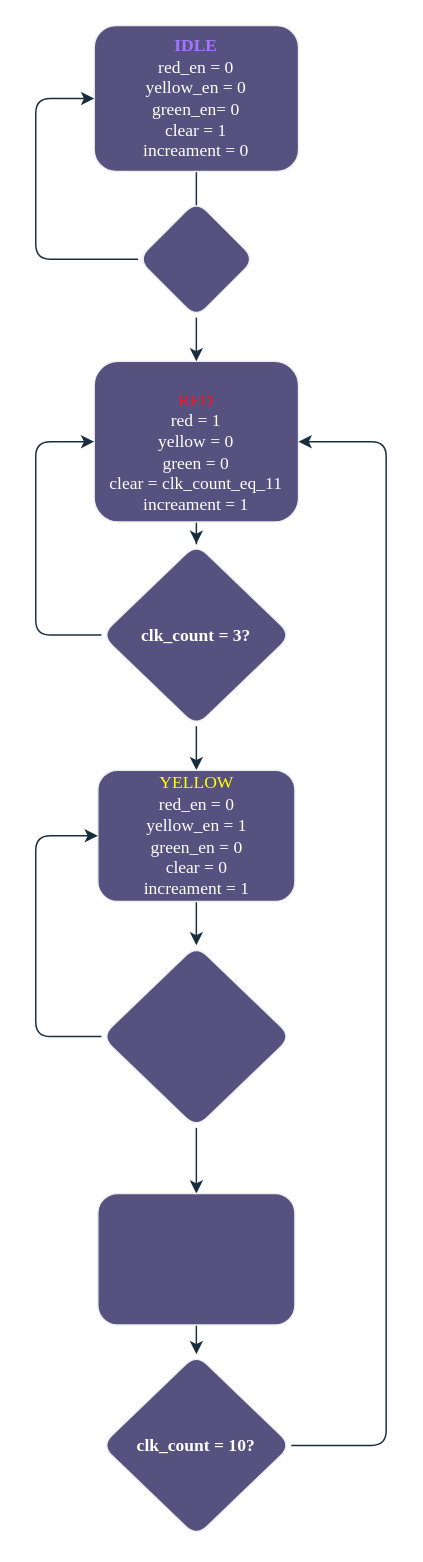
Image size: 423x1562. Some labels were removed from this diagram. The centre of each missing label's shape, as x and y in pixels:
"clk_count = 5?" belongs at [195,1036].
"GREEN red = 0 yellow = 0 green = 1" belongs at [195,1258].
"start?" belongs at [196,258].
